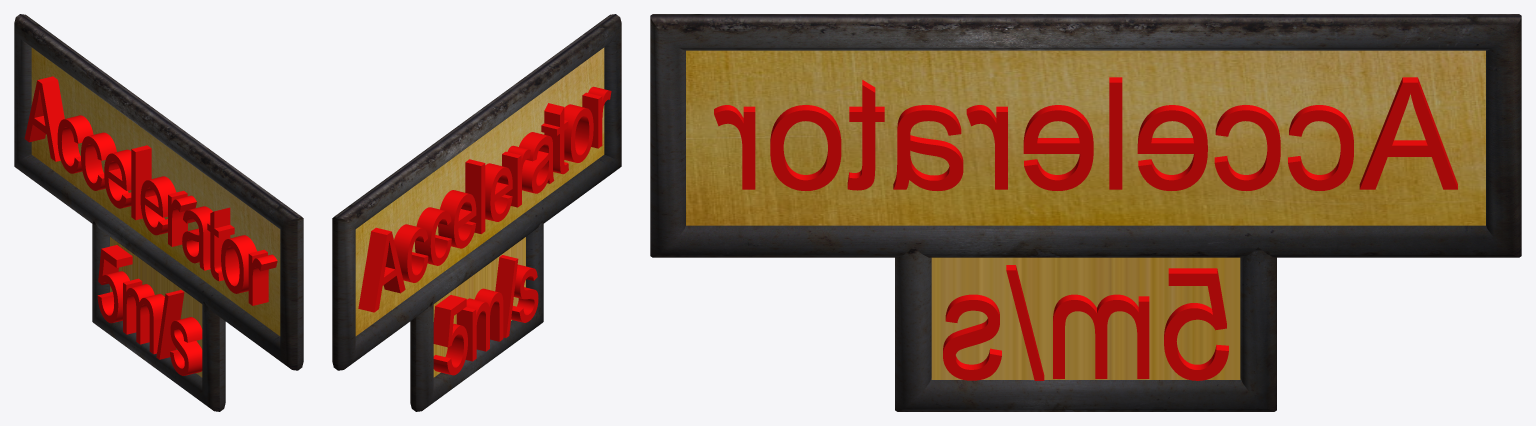
The model's file is axllabel.FBX.
3 views of the same model, side by side, from view 1: azimuth 30°, elevation 25°; view 2: azimuth 150°, elevation 25°; view 3: azimuth 270°, elevation 25° (orthographic). The views are drawn at different scales.
Visible parts, largest first — view 1: 图形001, 加强型文本002, Box003, 加强型文本003, 图形002; view 2: 图形001, 加强型文本002, Box003, 加强型文本003, 图形002; view 3: Box003, 图形001, 加强型文本002, 图形002, 加强型文本003.
Boxes of the visible parts, left/top/right/bottom form: 图形001: left=14, top=14, right=303, bottom=370; 加强型文本002: left=24, top=76, right=277, bottom=305; Box003: left=31, top=47, right=280, bottom=377; 加强型文本003: left=97, top=245, right=202, bottom=375; 图形002: left=92, top=221, right=225, bottom=411; 图形001: left=332, top=14, right=621, bottom=370; 加强型文本002: left=358, top=86, right=611, bottom=312; Box003: left=355, top=47, right=604, bottom=377; 加强型文本003: left=433, top=255, right=538, bottom=375; 图形002: left=410, top=221, right=543, bottom=411; Box003: left=686, top=50, right=1485, bottom=379; 图形001: left=650, top=14, right=1521, bottom=257; 加强型文本002: left=714, top=77, right=1457, bottom=190; 图形002: left=895, top=247, right=1276, bottom=411; 加强型文本003: left=943, top=265, right=1228, bottom=380.
Bounding box in the file's own units: 1.03 × 9.47 × 18.94.
3 materials, 2 textured.
